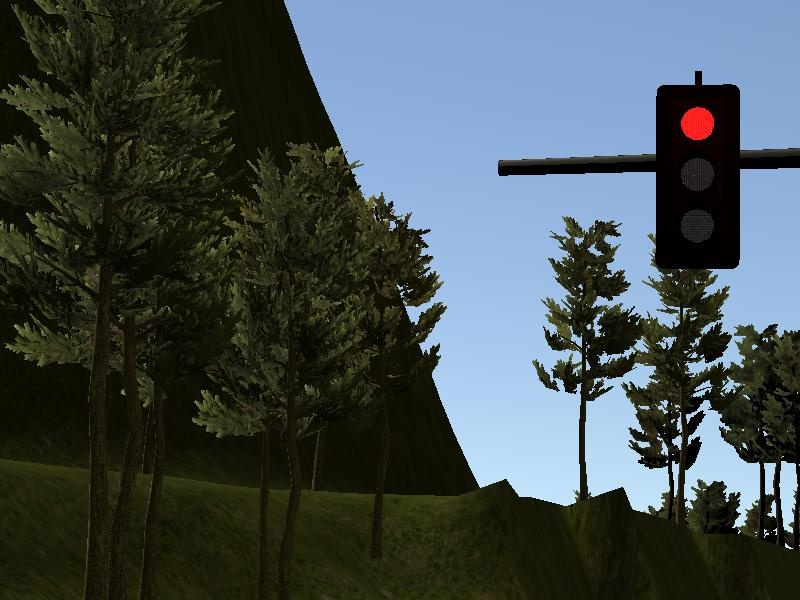RED: (654, 86, 739, 269)
